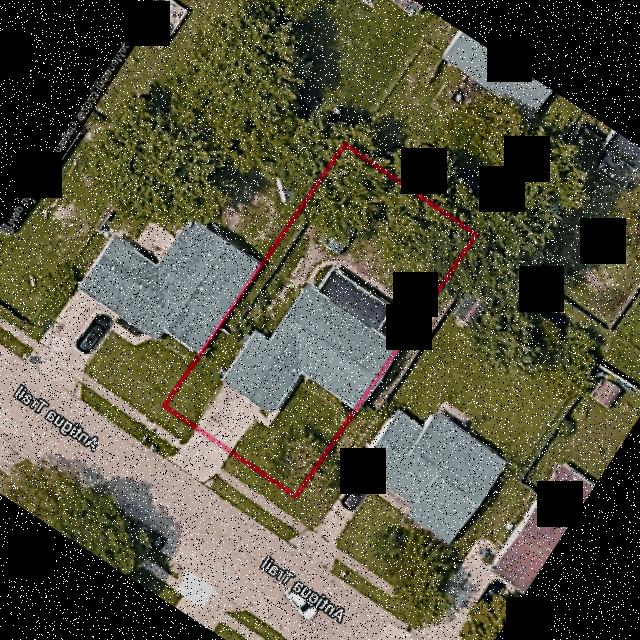Driveway: (197, 383, 281, 449)
Extra Driveway: (161, 430, 227, 489)
Extra Lawn: (221, 453, 297, 512), (213, 471, 281, 531), (151, 406, 195, 442), (138, 426, 179, 456)
Extra Sidewalk: (215, 465, 287, 520), (147, 419, 186, 449)
House: (223, 267, 396, 411)
Other: (318, 215, 358, 254), (403, 275, 428, 296)
